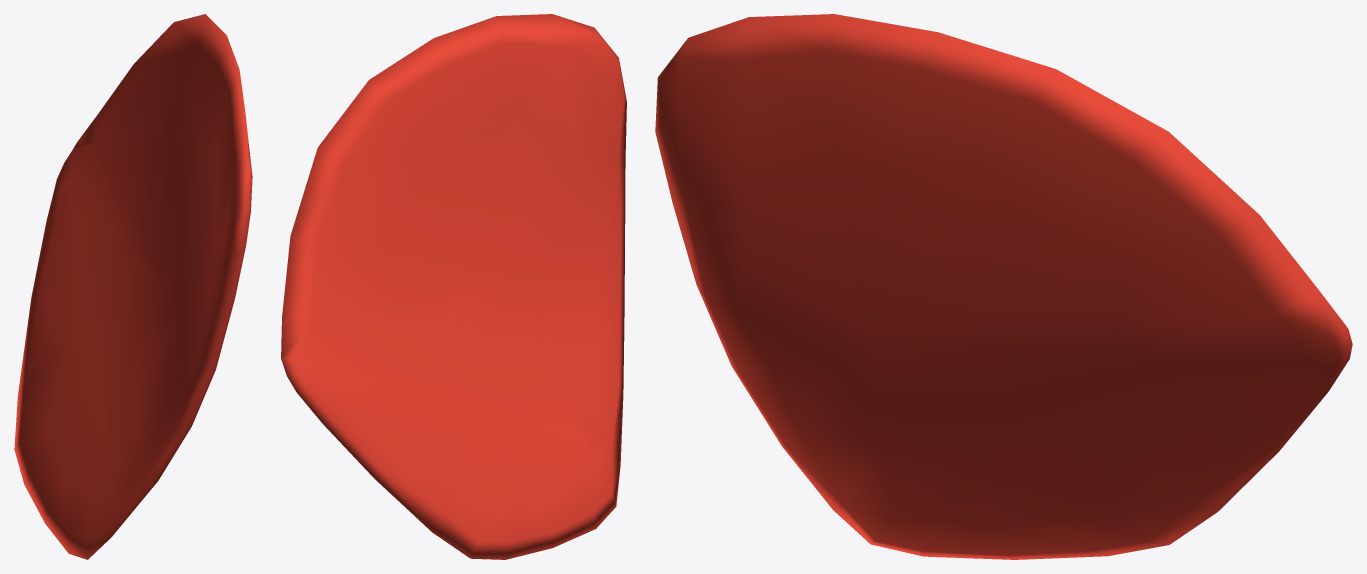
The model's file is Extensor_digitorum_longus_lateral_surface_lateral_condyle_left.glb.
3 views of the same model, side by side, from view 1: azimuth 30°, elevation 25°; view 2: azimuth 150°, elevation 25°; view 3: azimuth 270°, elevation 25° (orthographic). The views are drawn at different scales.
Visible parts, largest first — view 1: Extensor_digitorum_longus_on_lat._surf_of_lat.condyle.l_Gene; view 2: Extensor_digitorum_longus_on_lat._surf_of_lat.condyle.l_Gene; view 3: Extensor_digitorum_longus_on_lat._surf_of_lat.condyle.l_Gene.
Part boxes in pixels (<box>): Extensor_digitorum_longus_on_lat._surf_of_lat.condyle.l_Gene: <box>14,14,252,559</box>; Extensor_digitorum_longus_on_lat._surf_of_lat.condyle.l_Gene: <box>281,14,626,559</box>; Extensor_digitorum_longus_on_lat._surf_of_lat.condyle.l_Gene: <box>655,14,1352,559</box>.
Bounding box in the file's own units: 0.0054 × 0.0124 × 0.0124.
